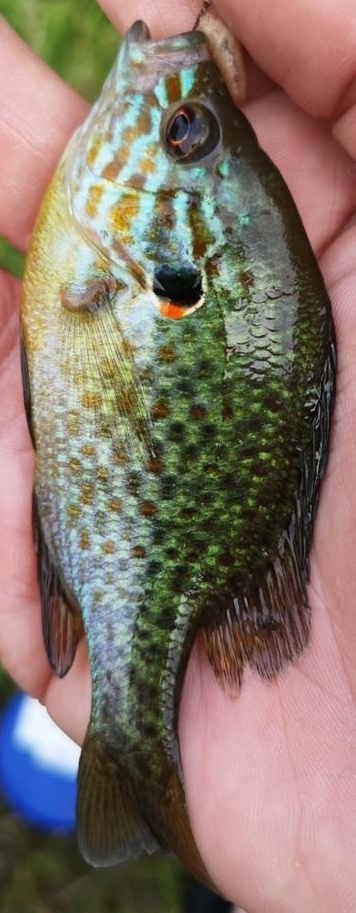Lepomis gibbosus: (20, 20, 336, 893)
